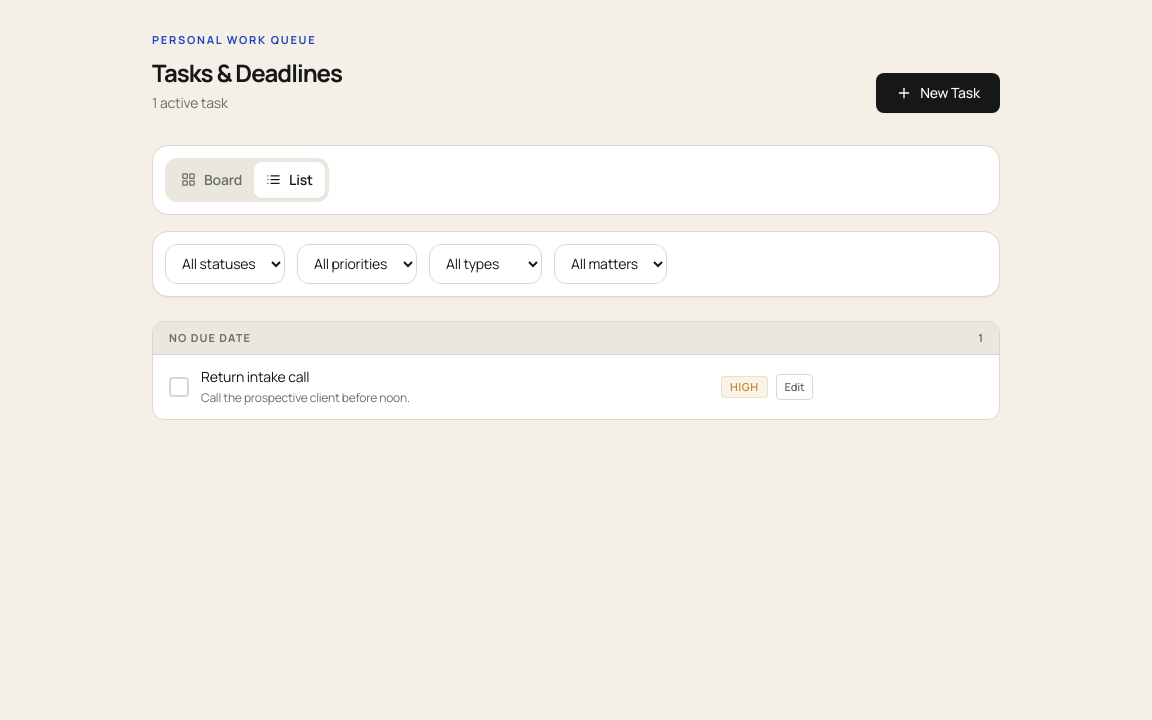
Scenario: TasksPage accessibility › does not crash when the edit API returns an object error detail
Expected: the text "Return intake call" is shown, [201,367,309,386]
Click the button with aria-label "Edit task: Return intake call" at (795,387), box [776,374,814,400]
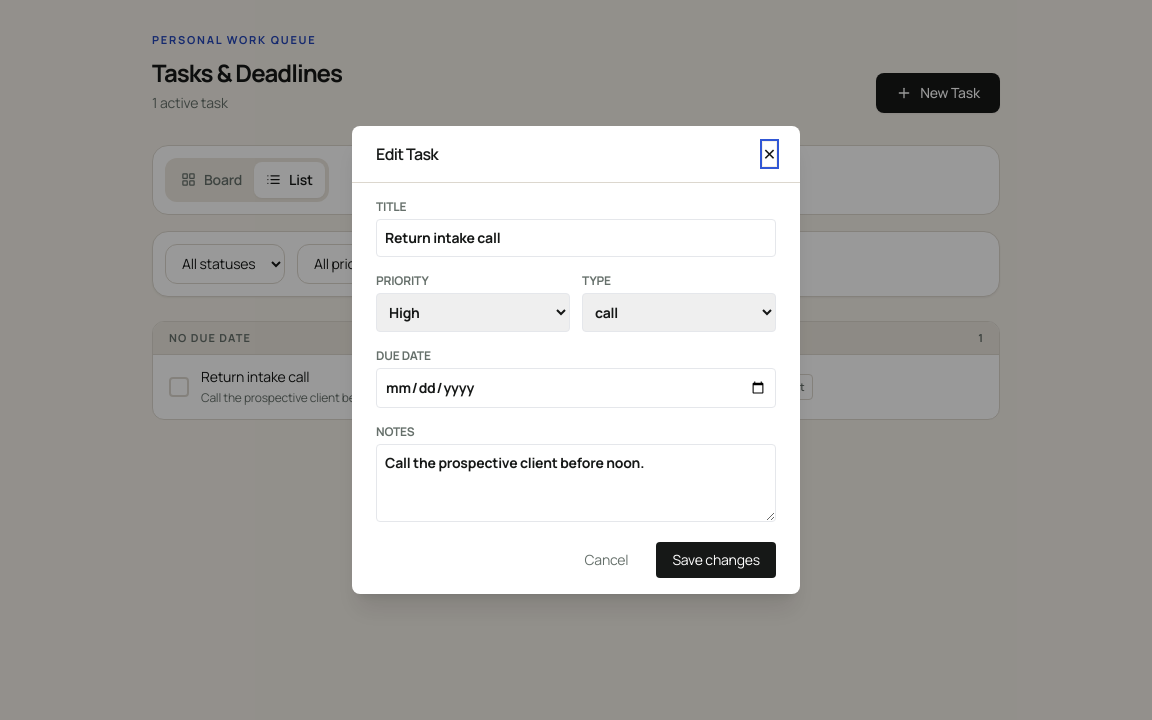
Click the button "Save changes" at (716,560), box [656,542,776,578]
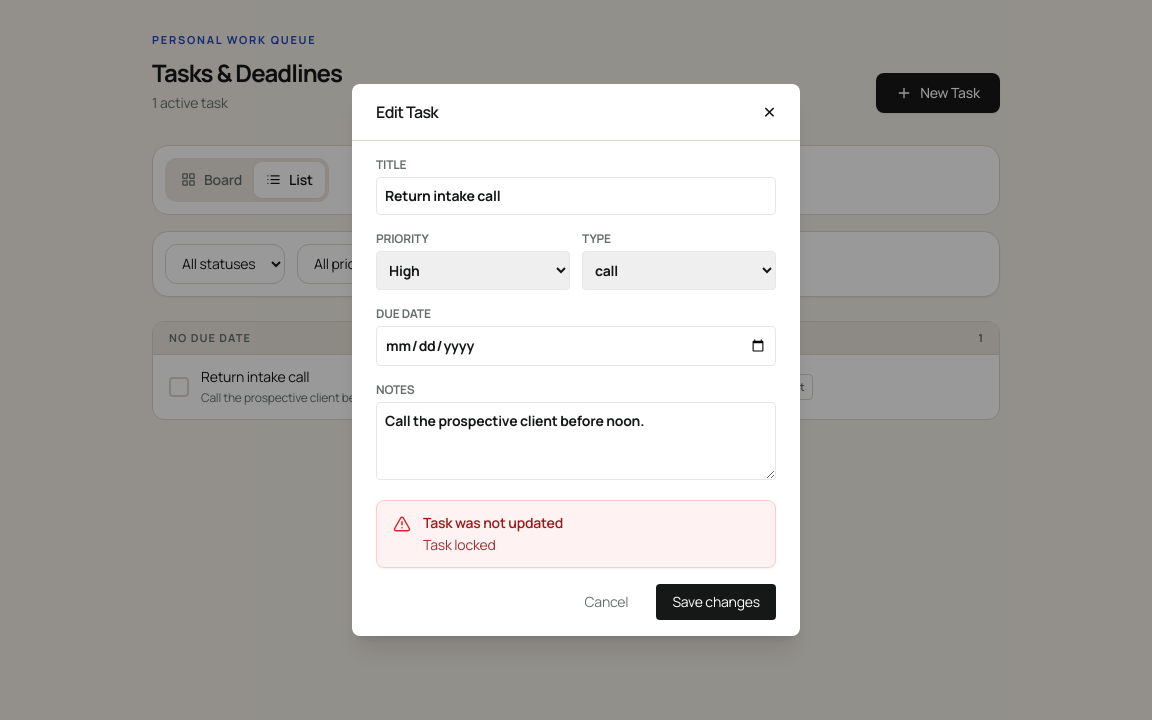
Expected: the message shows "Task locked", [423,535,496,554]
